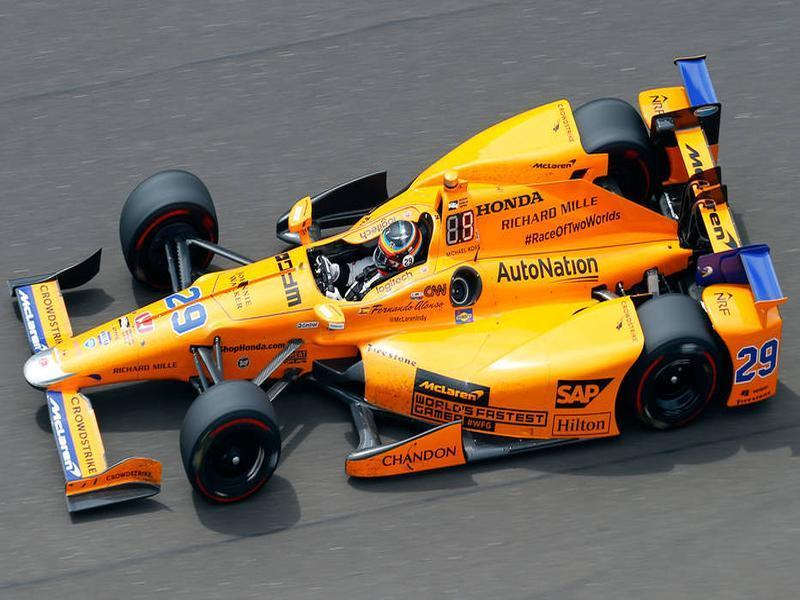f1: (6, 83, 788, 521)
